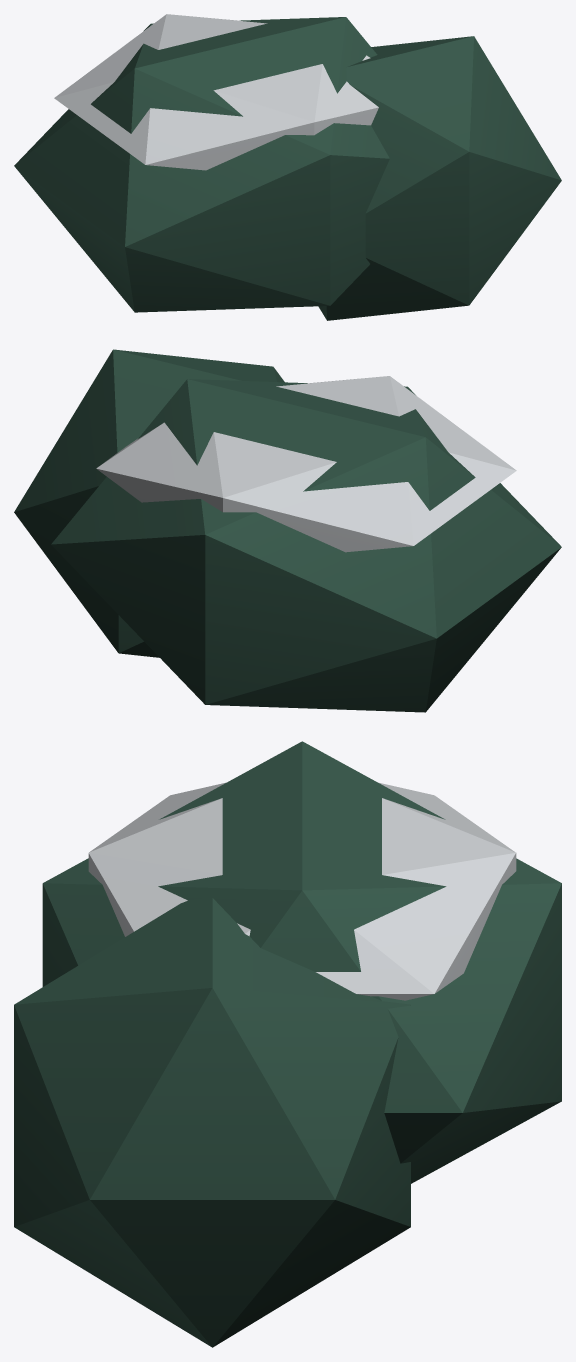
File: arbusto_com_neve.glb
3 views of the same model, one above another, from view 1: azimuth 30°, elevation 25°; view 2: azimuth 150°, elevation 25°; view 3: azimuth 270°, elevation 25° (orthographic). The views are drawn at different scales.
Visible parts, largest first — view 1: arbusto_com_neve_liso; view 2: arbusto_com_neve_liso; view 3: arbusto_com_neve_liso.
Boxes of the visible parts, x1,y1,x2,y2 form: arbusto_com_neve_liso: (14,14,561,320); arbusto_com_neve_liso: (14,349,561,712); arbusto_com_neve_liso: (14,741,561,1347).
Size of the model in its own units: 1.95 by 1.2 by 1.53.
